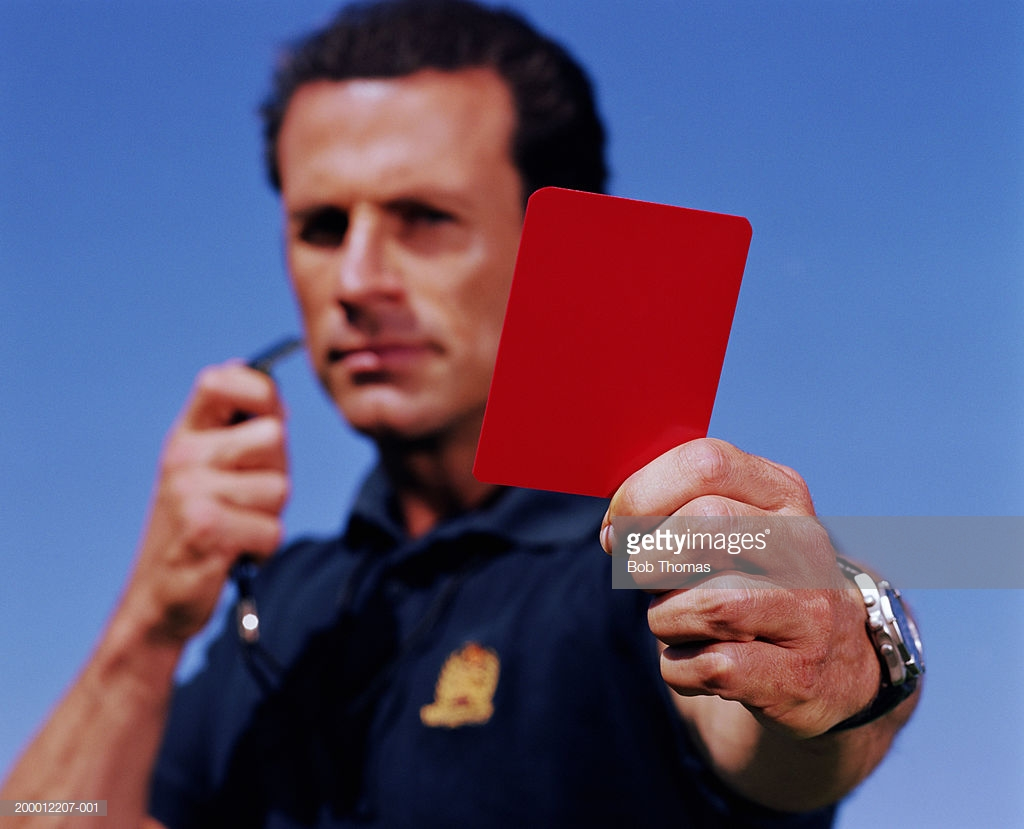red_card: (498, 153, 872, 761)
